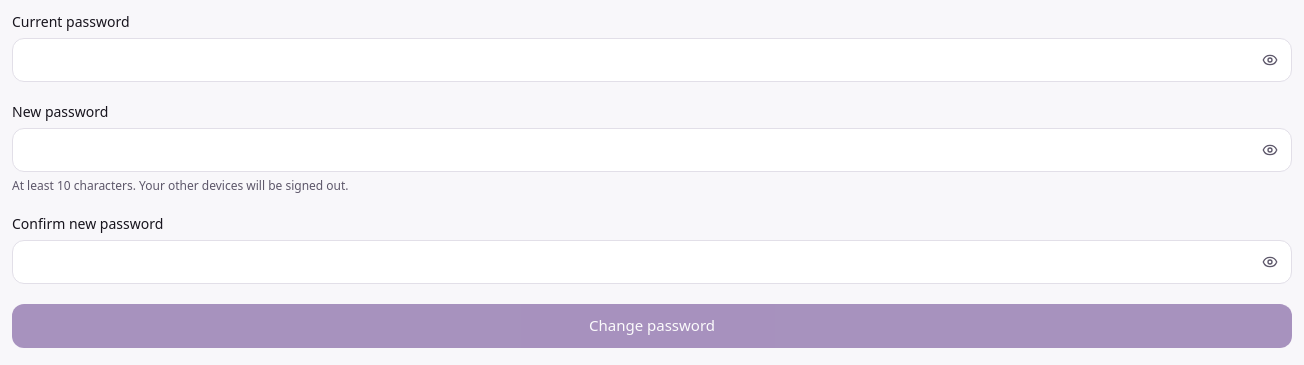
Test: PasswordForm › keeps Change password off until every field is filled
This screenshot has width=1304, height=365.
Expected: the button "Change password" is disabled, [12,304,1292,348]
Type "old-password-1" into the password field labelled "Current password" at (652, 60), box [12,38,1292,82]
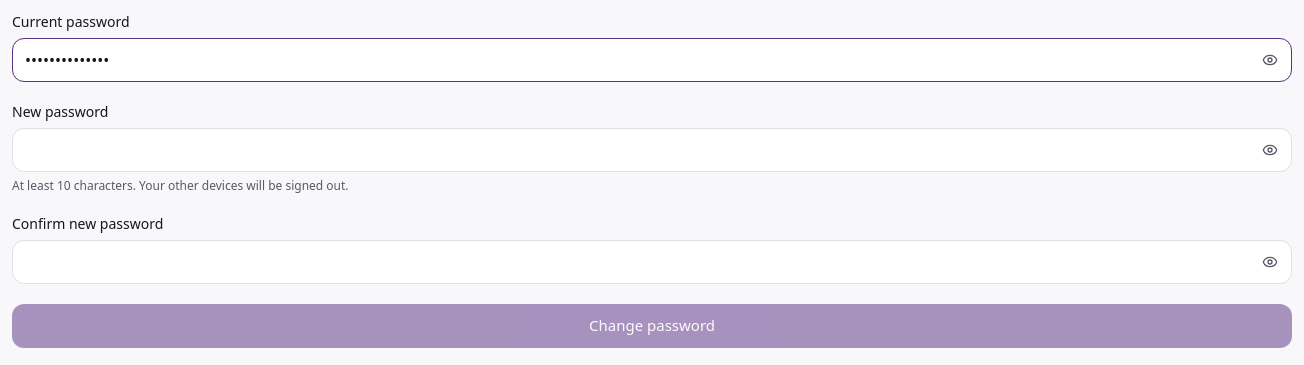
Type "new-password-22" into the password field labelled "New password" at (652, 150), box [12,128,1292,172]
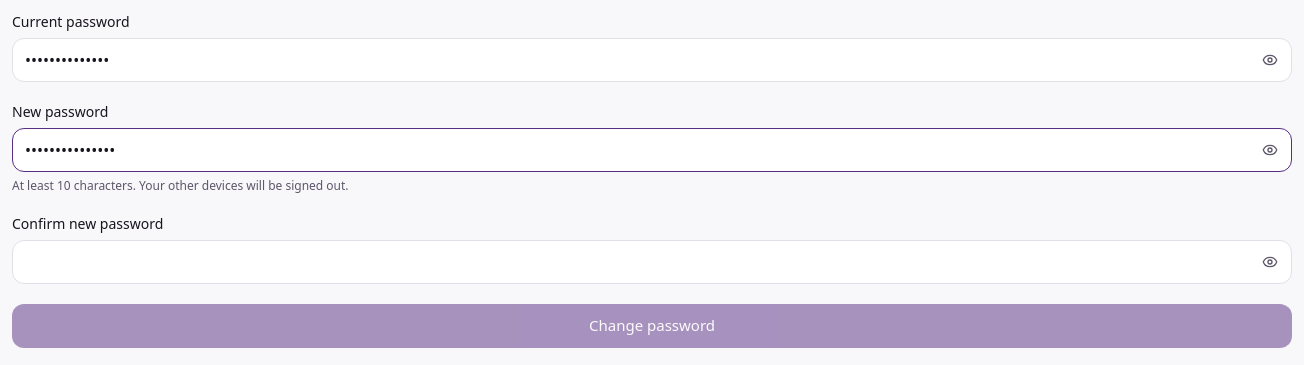
Expected: the button "Change password" is disabled, [12,304,1292,348]
Type "new-password-22" into the password field labelled "Confirm new password" at (652, 262), box [12,240,1292,284]
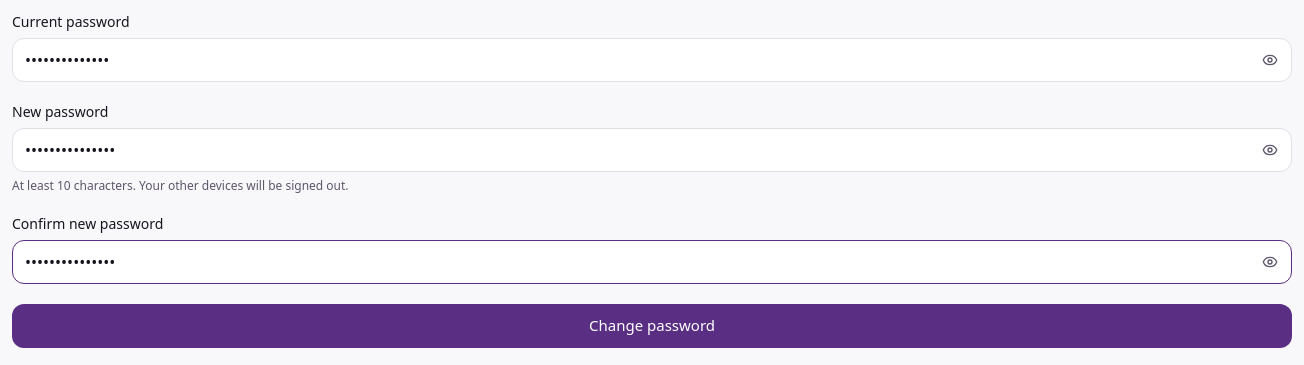
Expected: the button "Change password" is enabled, [12,304,1292,348]
